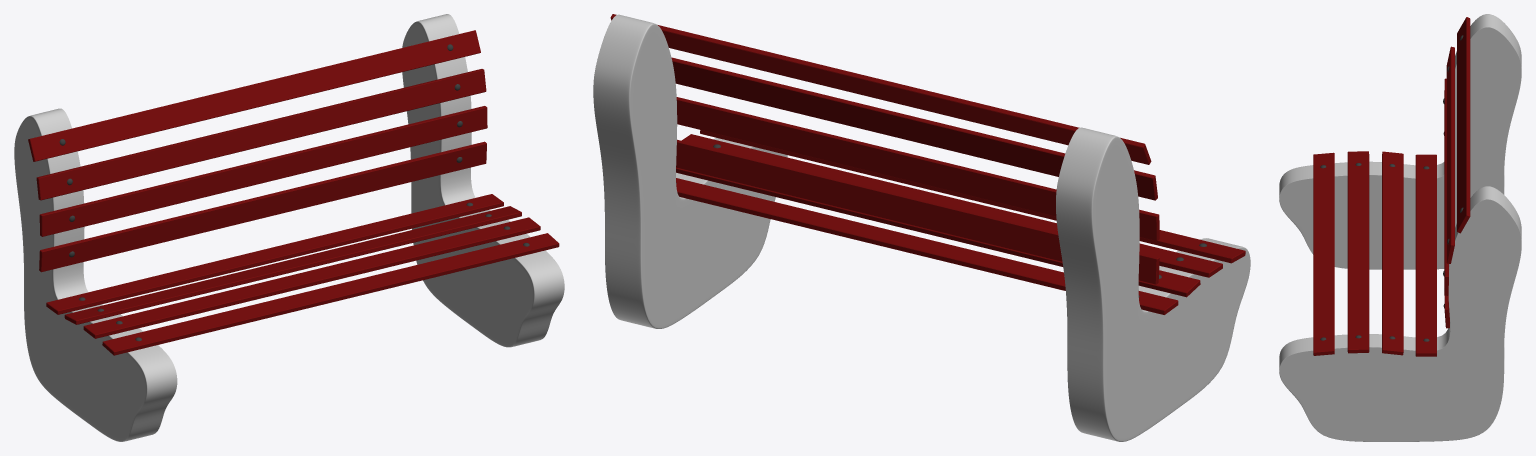
The model's file is parkbench.obj.
3 views of the same model, side by side, from view 1: azimuth 30°, elevation 25°; view 2: azimuth 150°, elevation 25°; view 3: azimuth 270°, elevation 25° (orthographic). The views are drawn at different scales.
Visible parts, largest first — view 1: SockelLinks, SockelRechts, Bretter00, Bretter01, Bretter02, Bretter07, Bretter05, Bretter04, Bretter06, Bretter03; view 2: SockelLinks, SockelRechts, Bretter07, Bretter02, Bretter00, Bretter01, Bretter06, Bretter04, Bretter03, Bretter05; view 3: SockelRechts, SockelLinks, Bretter04, Bretter06, Bretter03, Bretter05, Bretter01, Bretter00, Bretter02.
Part boxes in pixels (<box>): SockelLinks: <box>14,108,177,441</box>; SockelRechts: <box>402,14,564,347</box>; Bretter00: <box>36,69,486,200</box>; Bretter01: <box>28,30,480,161</box>; Bretter02: <box>39,106,487,236</box>; Bretter07: <box>39,141,486,272</box>; Bretter05: <box>102,233,559,355</box>; Bretter04: <box>83,217,540,338</box>; Bretter06: <box>46,194,503,314</box>; Bretter03: <box>64,206,521,324</box>; SockelLinks: <box>1056,127,1250,441</box>; SockelRechts: <box>593,14,787,328</box>; Bretter07: <box>676,139,1159,284</box>; Bretter02: <box>676,97,1159,241</box>; Bretter00: <box>671,57,1157,200</box>; Bretter01: <box>610,14,1151,164</box>; Bretter06: <box>676,178,1178,314</box>; Bretter04: <box>681,134,1222,277</box>; Bretter03: <box>676,167,1200,297</box>; Bretter05: <box>700,130,1245,263</box>; SockelRechts: <box>1279,186,1521,441</box>; SockelLinks: <box>1279,14,1521,269</box>; Bretter04: <box>1347,151,1369,353</box>; Bretter06: <box>1415,154,1436,356</box>; Bretter03: <box>1382,151,1403,355</box>; Bretter05: <box>1313,152,1334,355</box>; Bretter01: <box>1457,17,1470,233</box>; Bretter00: <box>1446,46,1454,263</box>; Bretter02: <box>1444,78,1448,295</box>.
Bounding box in the file's own units: 220 × 126 × 114.
